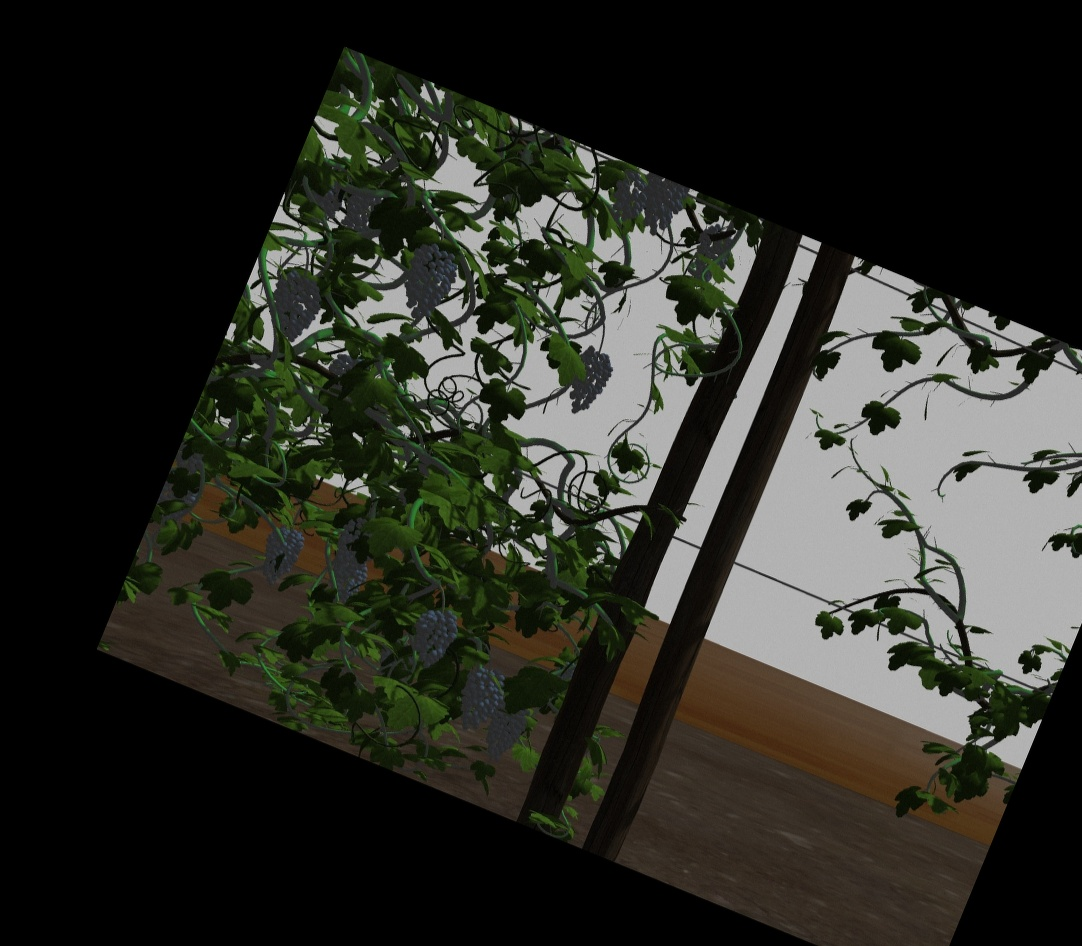grape: (403, 244, 451, 318), (267, 270, 319, 337), (410, 609, 454, 667), (567, 350, 605, 414), (459, 667, 497, 730), (638, 184, 680, 234), (260, 528, 297, 583), (487, 705, 522, 757), (695, 225, 726, 280), (329, 560, 363, 602), (609, 175, 643, 217), (344, 187, 374, 233), (339, 515, 364, 560)
